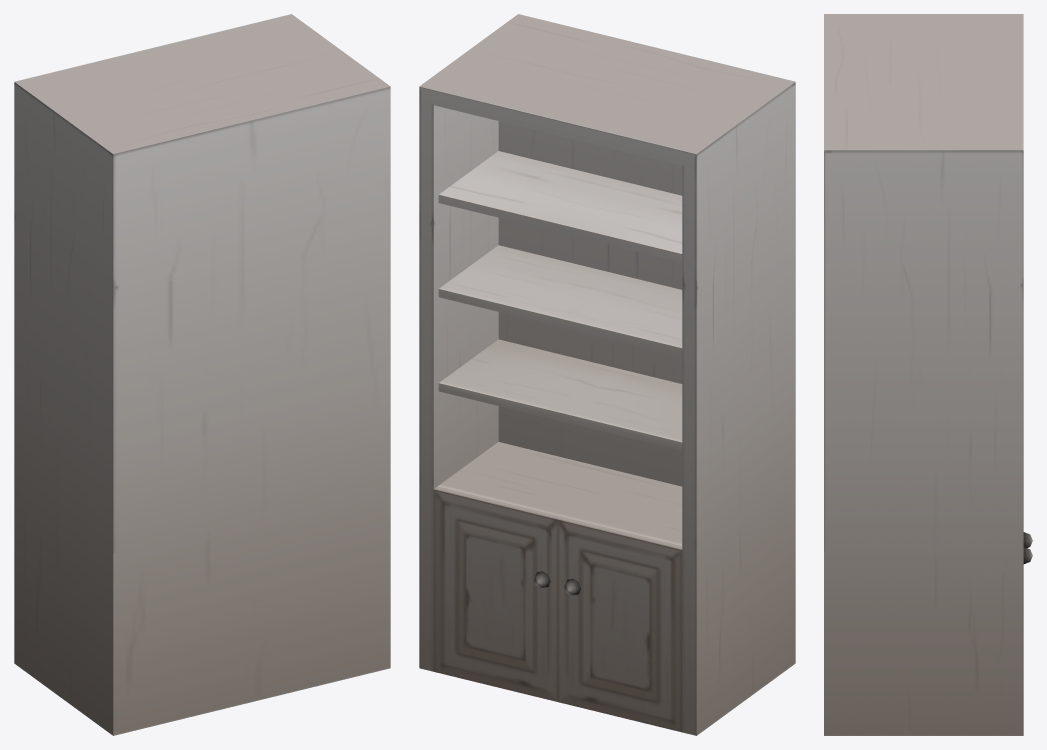
The model's file is FUR0110011.fbx.
The picture shows the model from 3 angles, left to right: view 1: azimuth 30°, elevation 25°; view 2: azimuth 150°, elevation 25°; view 3: azimuth 270°, elevation 25°; orthographic projection.
Visible parts, largest first — view 1: smFUR0110011; view 2: smFUR0110011; view 3: smFUR0110011.
Boxes of the visible parts, bbox=[...] form: smFUR0110011: bbox=[14, 14, 390, 735]; smFUR0110011: bbox=[419, 14, 795, 735]; smFUR0110011: bbox=[824, 14, 1032, 735].
Bounding box in the file's own units: 107 × 214 × 69.36.
Materials: 1 (1 with a texture image).
